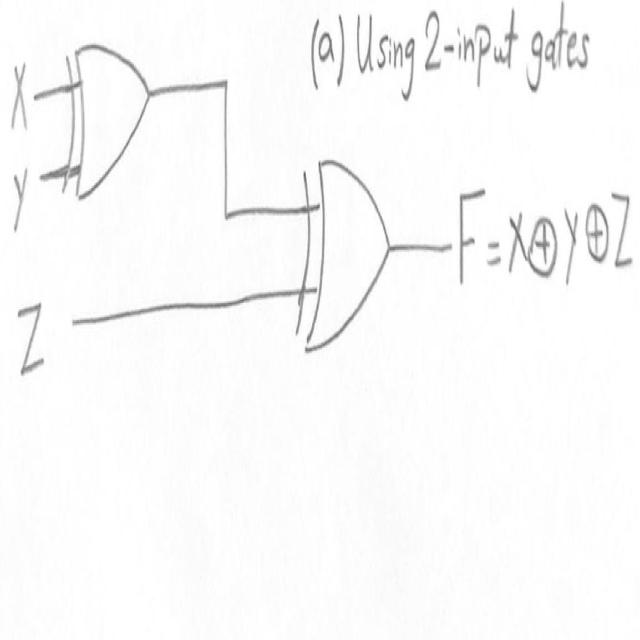XOR: (291, 138, 403, 371), (59, 24, 157, 230)
